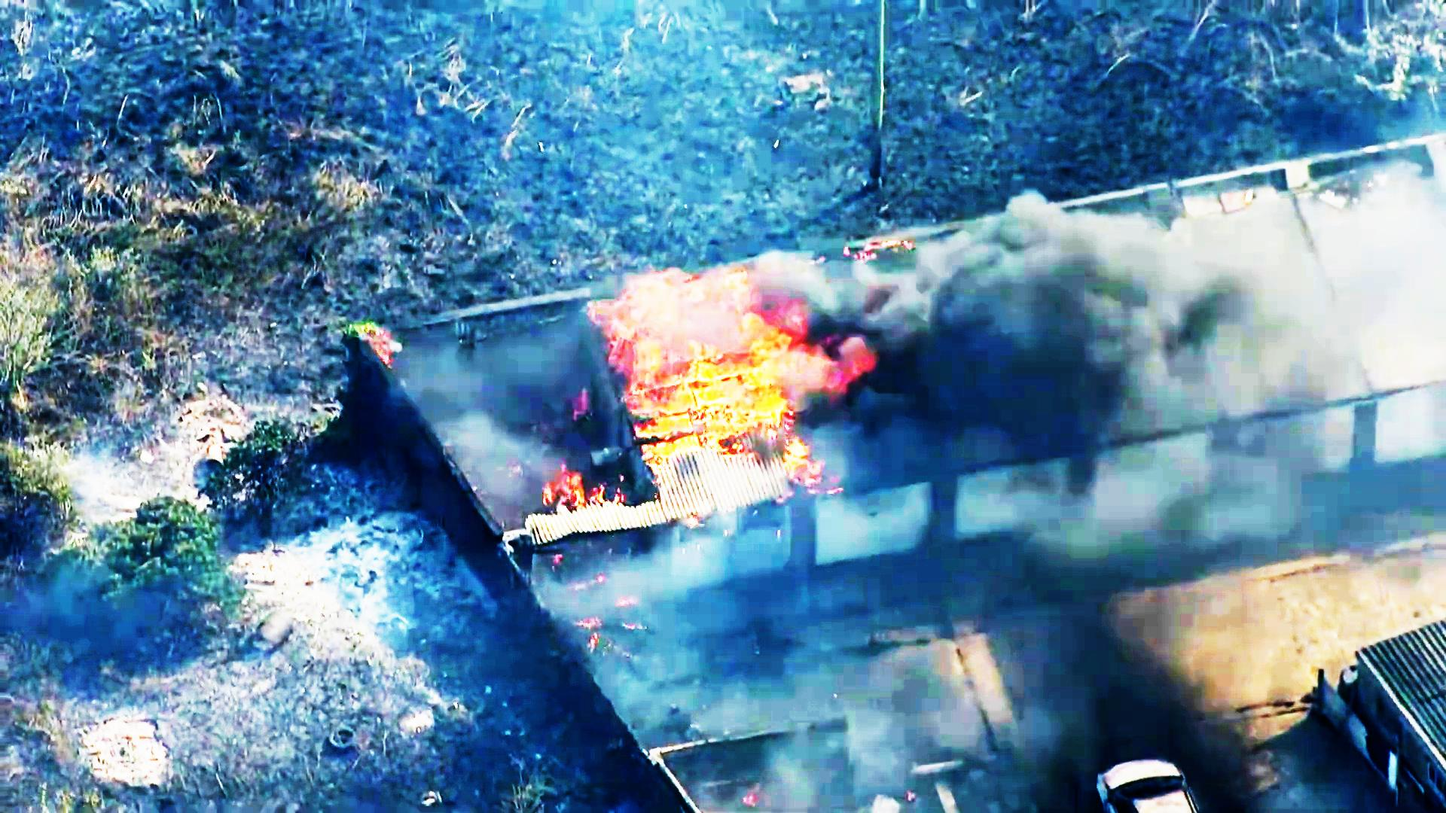fire: (584, 258, 823, 482)
smoke: (849, 213, 1219, 444)
